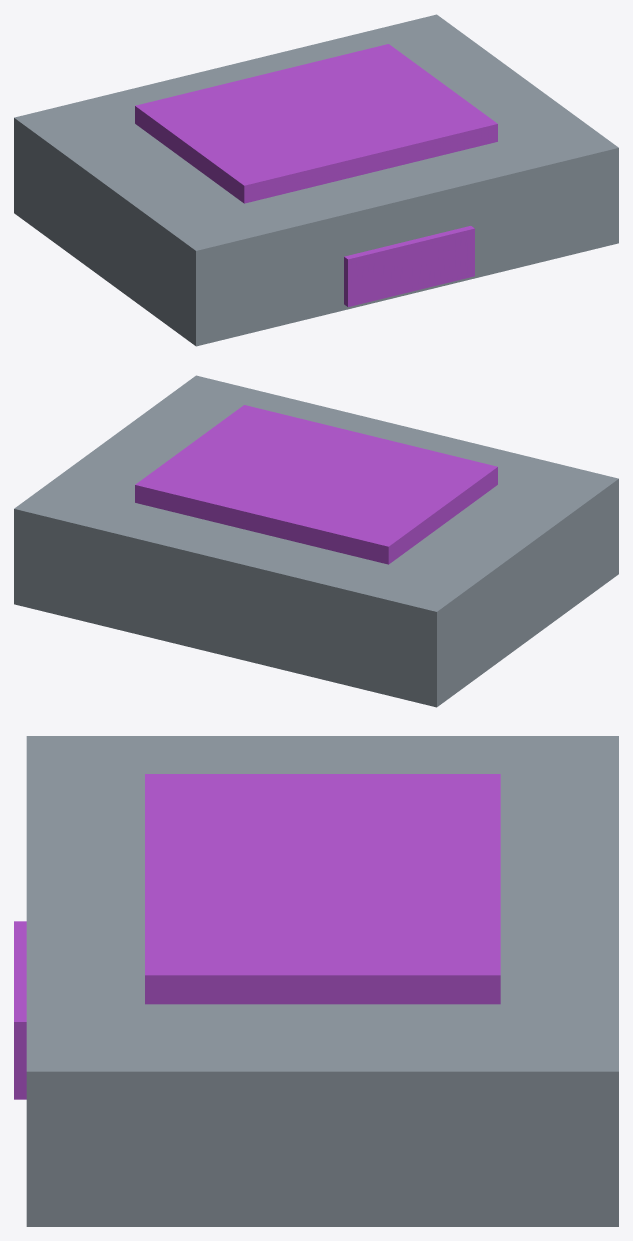
The model's file is SM_Chronolegion_CH_GapInterceptor_Blockout.fbx.
3 views of the same model, one above another, from view 1: azimuth 30°, elevation 25°; view 2: azimuth 150°, elevation 25°; view 3: azimuth 270°, elevation 25° (orthographic). The views are drawn at different scales.
Visible parts, largest first — view 1: MainBuilding, RoofStructure, EntranceGate; view 2: MainBuilding, RoofStructure; view 3: MainBuilding, RoofStructure, EntranceGate.
Part boxes in pixels (x1=…): MainBuilding: x1=14, y1=14, x2=618, y2=346; RoofStructure: x1=135, y1=44, x2=497, y2=203; EntranceGate: x1=344, y1=226, x2=474, y2=306; MainBuilding: x1=14, y1=375, x2=618, y2=707; RoofStructure: x1=135, y1=405, x2=497, y2=564; MainBuilding: x1=26, y1=736, x2=618, y2=1226; RoofStructure: x1=145, y1=774, x2=500, y2=1004; EntranceGate: x1=14, y1=921, x2=26, y2=1099.
Size of the model in its own units: 630 by 162 by 480.
